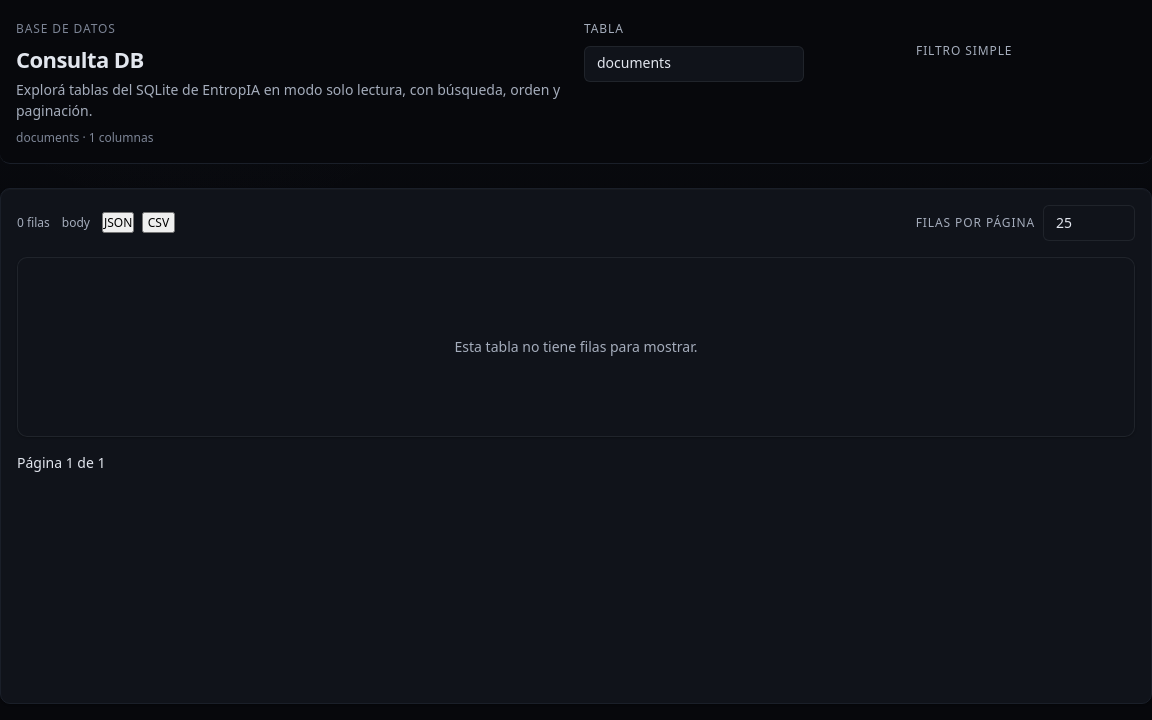
DbBrowserView › filter debounce and automatic reload › an automatic reload re-reads the schema, lists new tables and keeps the selected one
Click the button named "Tabla". click: {"x": 694, "y": 64}
box: [584,46,804,82]
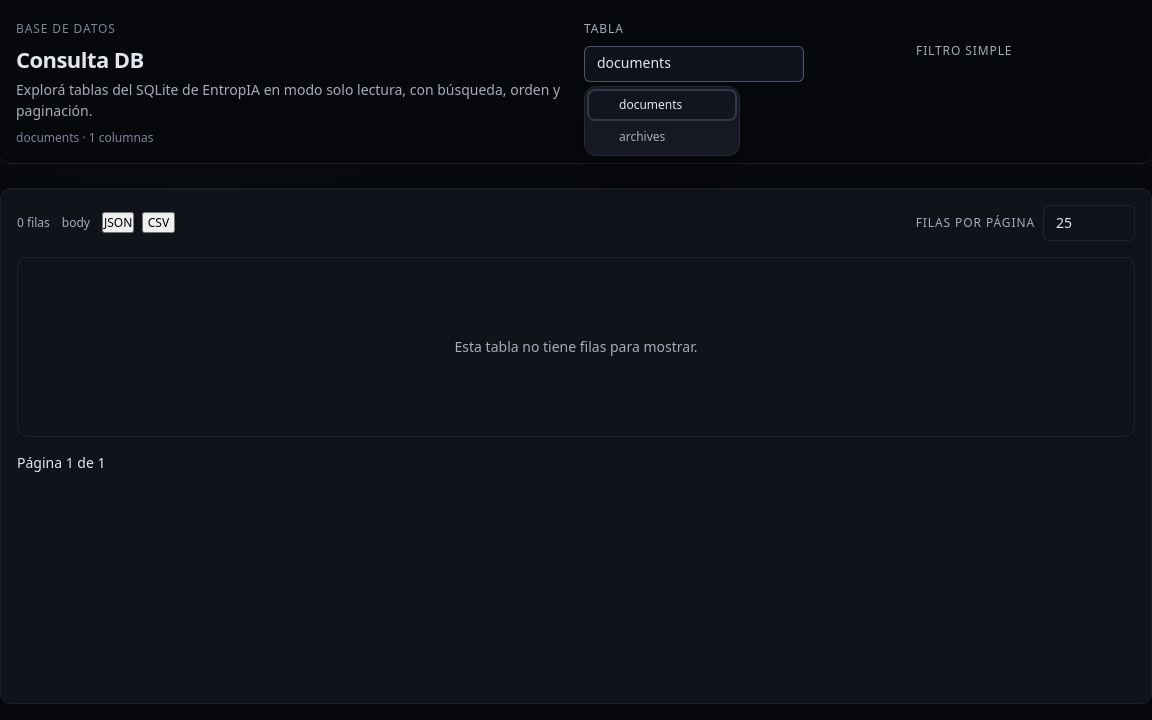
Click the menu item "archives". click: {"x": 662, "y": 136}
box: [589,122,735,150]
Wait 600 ms
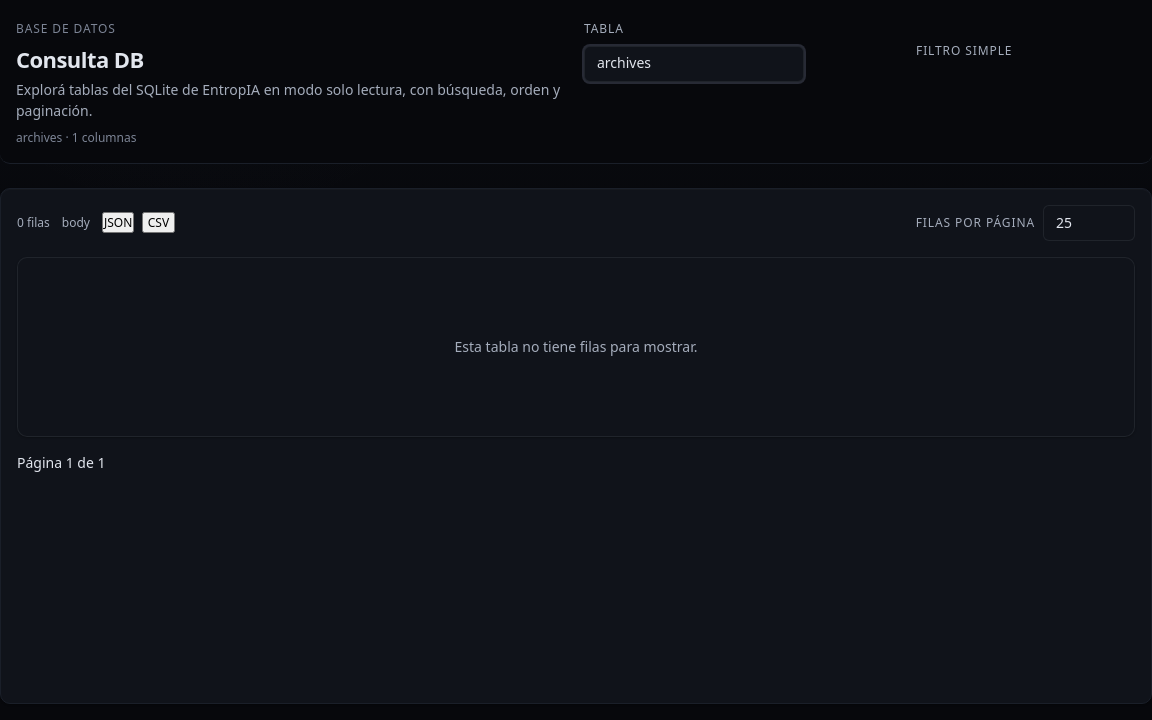
Click the button named "Tabla archives". click: {"x": 694, "y": 64}
box: [584,46,804,82]
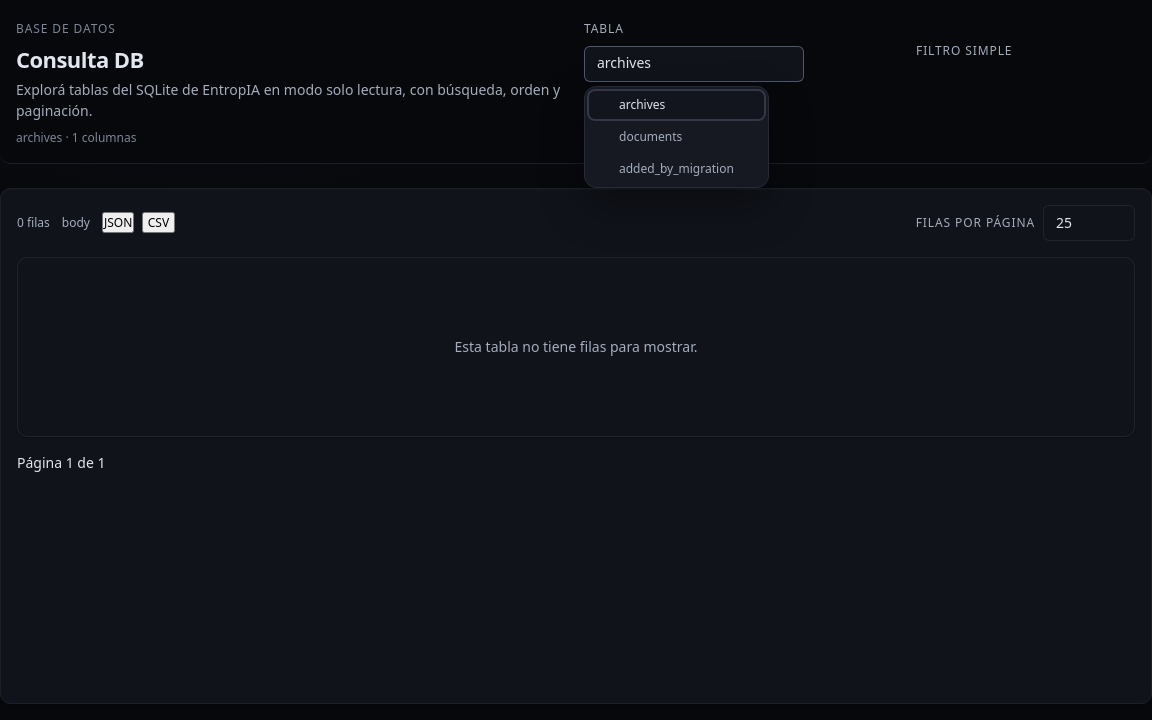
expect the menu item "added_by_migration" is shown: met, box [589,154,764,182]
